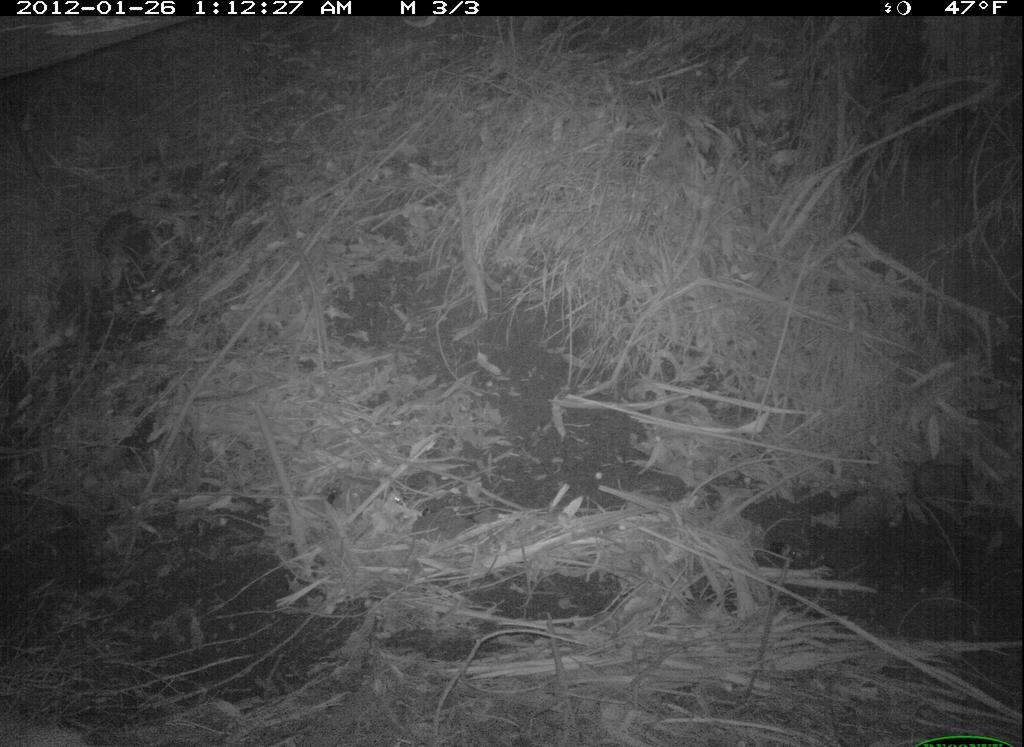coyote: (89, 199, 180, 342)
